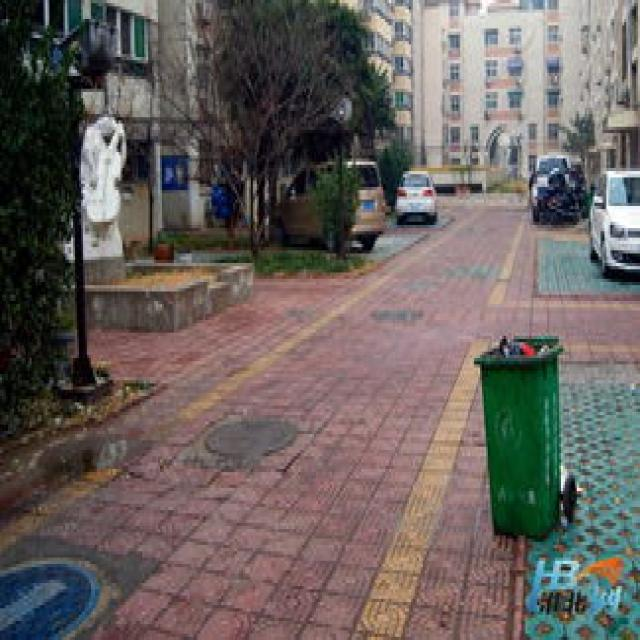overflow: (472, 330, 561, 538)
